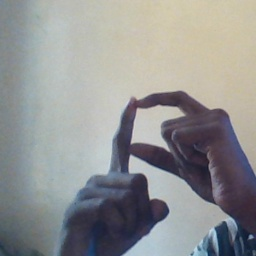D: (89, 81, 223, 213)
